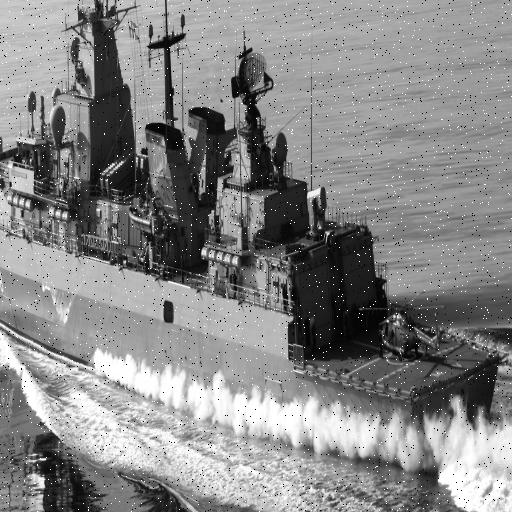Fragata: (1, 1, 506, 489)
